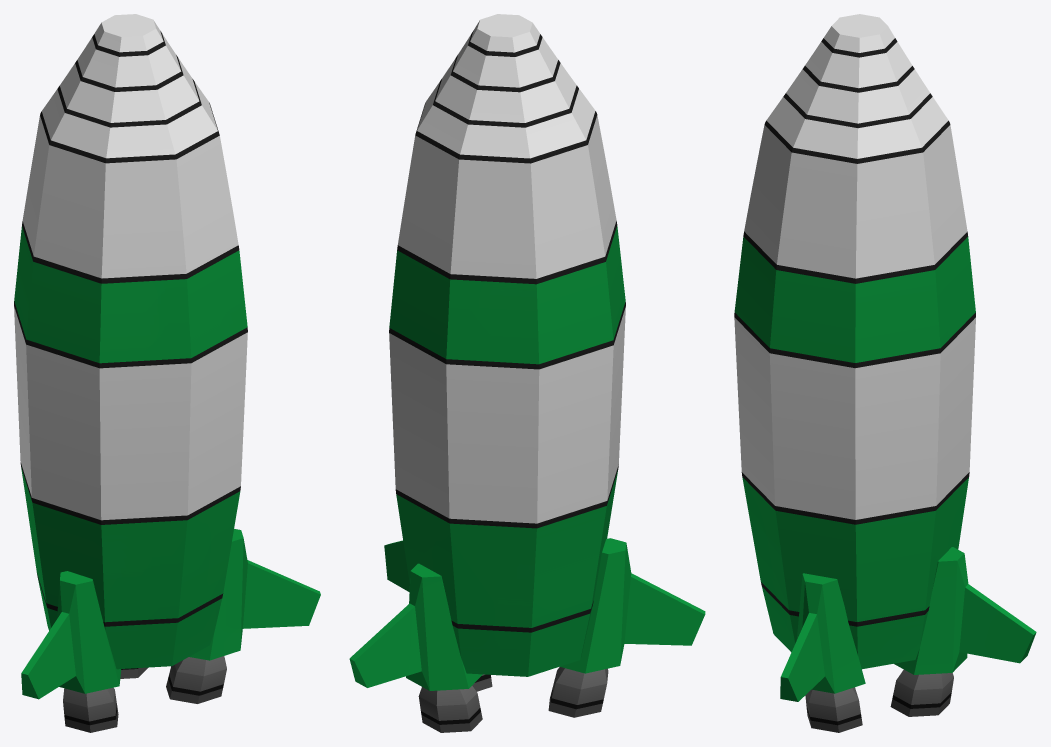
The model's file is M_Rocket_v3.fbx.
3 views of the same model, side by side, from view 1: azimuth 30°, elevation 25°; view 2: azimuth 150°, elevation 25°; view 3: azimuth 270°, elevation 25° (orthographic).
Visible parts, largest first — view 1: M_Rocket_v3; view 2: M_Rocket_v3; view 3: M_Rocket_v3.
Part boxes in pixels (box(x1,y1,x2,y2)): M_Rocket_v3: box(14, 14, 320, 732); M_Rocket_v3: box(349, 14, 705, 732); M_Rocket_v3: box(734, 14, 1036, 732).
Bounding box in the file's own units: 12.88 × 26.78 × 10.97.
